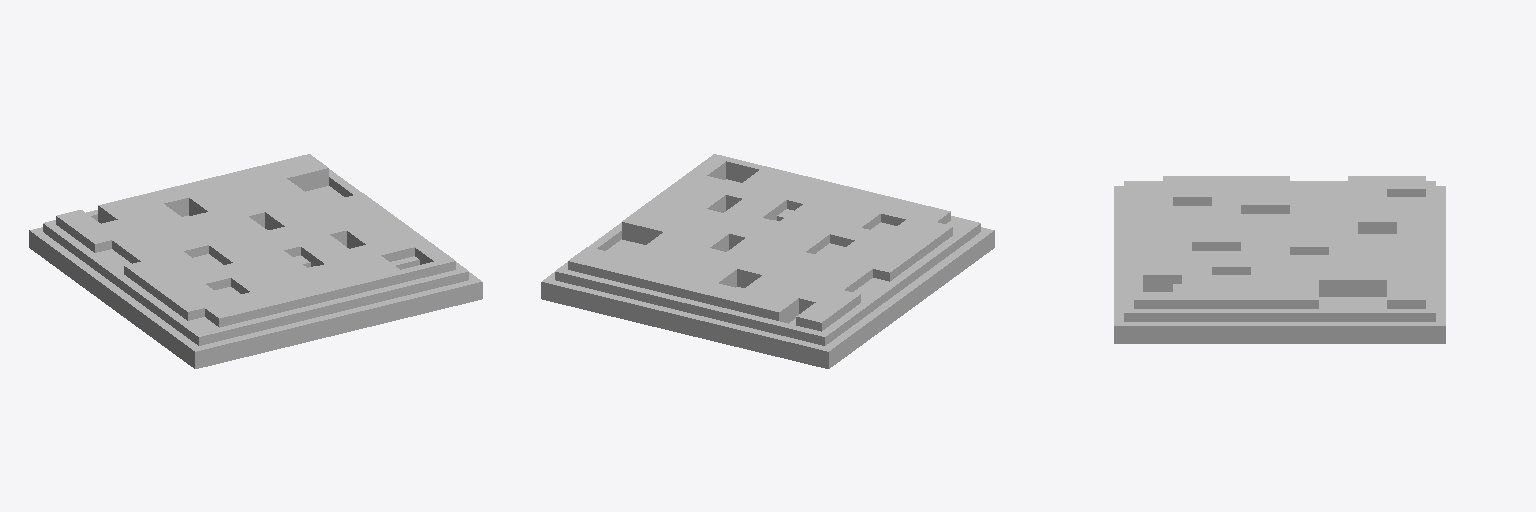
The model's file is Stepping stone test.obj.
3 views of the same model, side by side, from view 1: azimuth 30°, elevation 25°; view 2: azimuth 150°, elevation 25°; view 3: azimuth 270°, elevation 25° (orthographic).
Visible parts, largest first — view 1: object 1; view 2: object 1; view 3: object 1.
Boxes of the visible parts, x1=… form: object 1: x1=29, y1=154, x2=482, y2=368; object 1: x1=541, y1=154, x2=994, y2=368; object 1: x1=1114, y1=176, x2=1445, y2=343.
Size of the model in its own units: 3.4 by 0.4 by 3.4.